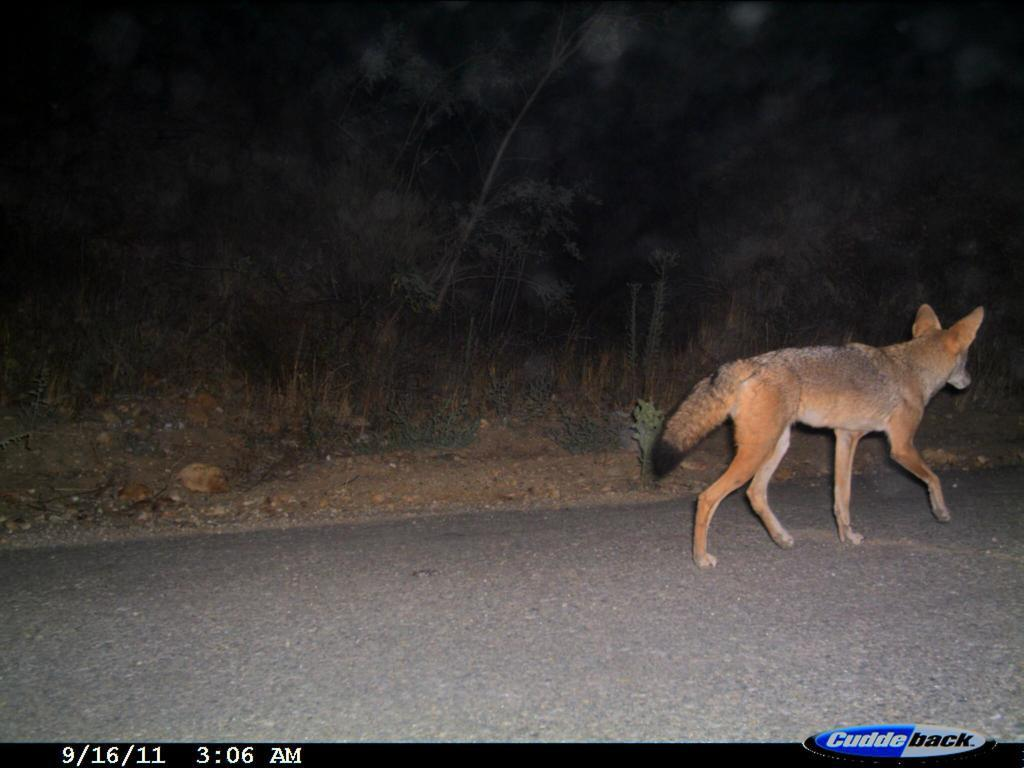coyote: (633, 296, 999, 573)
